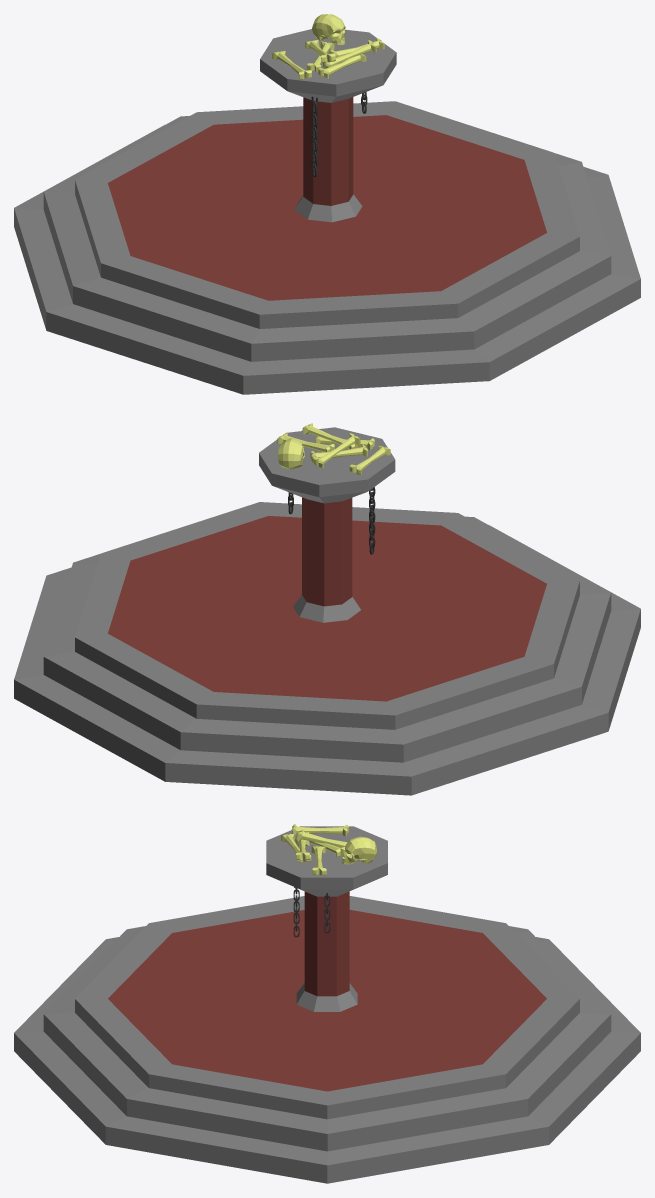
The model's file is AltarNew.fbx.
3 renders of one model, top to bottom at view 1: azimuth 30°, elevation 25°; view 2: azimuth 150°, elevation 25°; view 3: azimuth 270°, elevation 25°, orthographic. The views are drawn at different scales.
Parts seen in each view (by area): view 1: Cylinder.073; view 2: Cylinder.073; view 3: Cylinder.073.
Part boxes in pixels (x1=…): Cylinder.073: x1=14, y1=14, x2=640, y2=394; Cylinder.073: x1=14, y1=423, x2=640, y2=795; Cylinder.073: x1=14, y1=824, x2=640, y2=1183.
Size of the model in its own units: 1728 by 676 by 1728.
